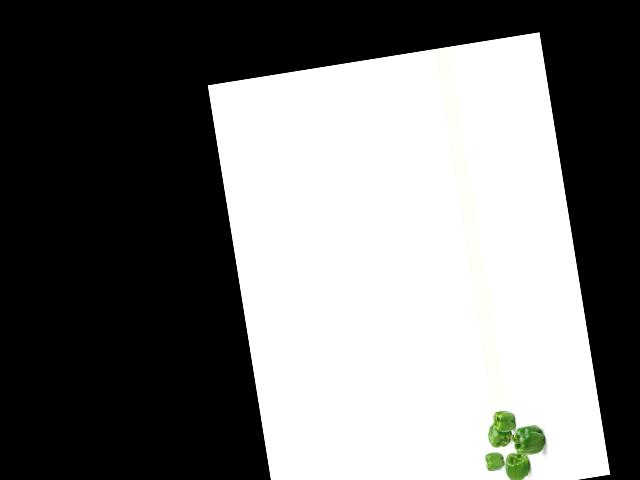bell_pepper: (492, 408, 519, 435)
